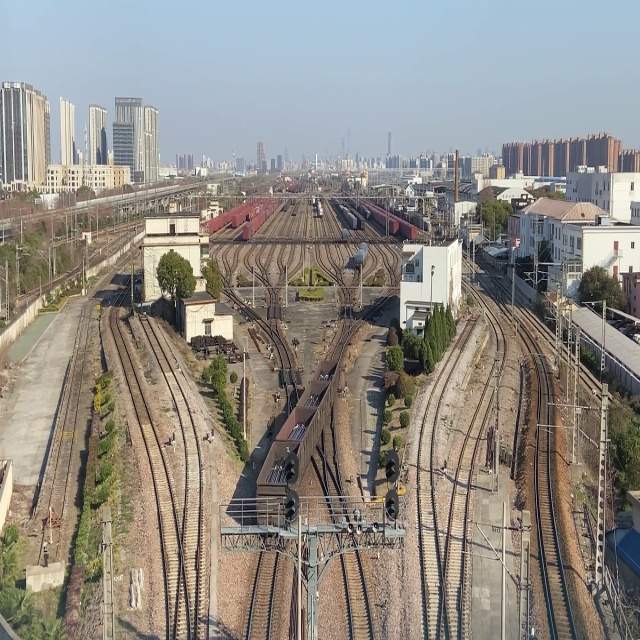train: (259, 358, 345, 494)
